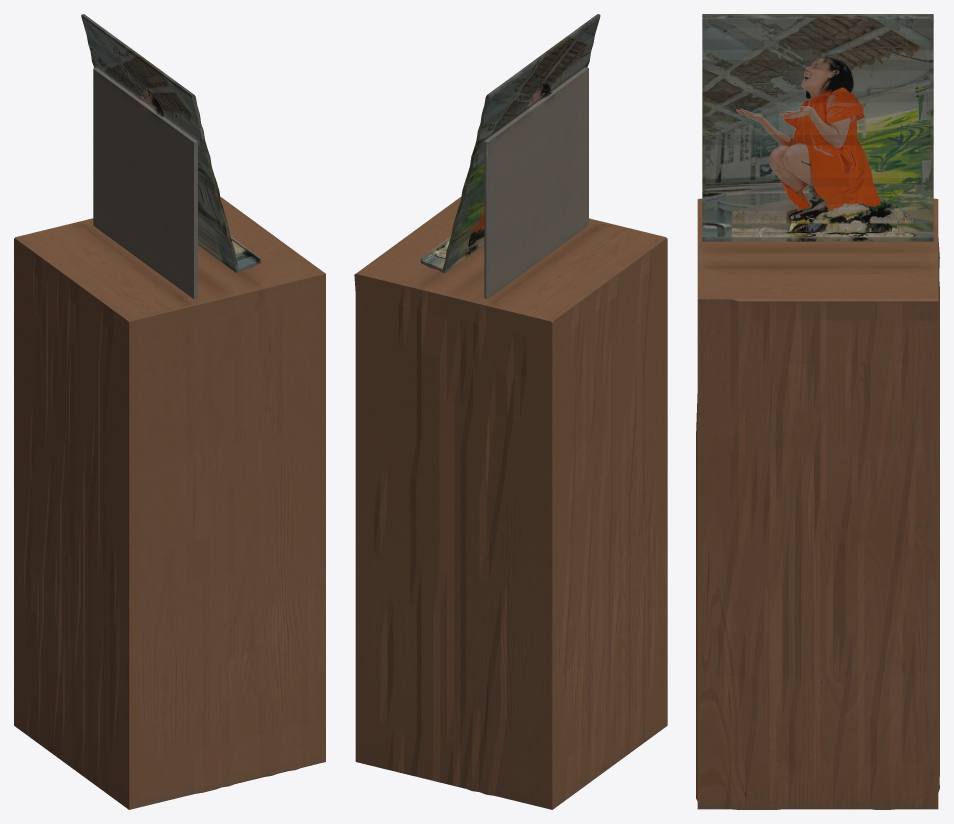
Rendered from album2.glb.
3 views of the same model, side by side, from view 1: azimuth 30°, elevation 25°; view 2: azimuth 150°, elevation 25°; view 3: azimuth 270°, elevation 25° (orthographic). The views are drawn at different scales.
Parts seen in each view (by area): view 1: tripo_node_2e47b159-6941-472b-86d8-65cc977af622; view 2: tripo_node_2e47b159-6941-472b-86d8-65cc977af622; view 3: tripo_node_2e47b159-6941-472b-86d8-65cc977af622.
Part boxes in pixels (x1,y1,x2,y2): tripo_node_2e47b159-6941-472b-86d8-65cc977af622: [14, 14, 325, 809]; tripo_node_2e47b159-6941-472b-86d8-65cc977af622: [354, 14, 667, 809]; tripo_node_2e47b159-6941-472b-86d8-65cc977af622: [696, 14, 939, 809].
Size of the model in its own units: 0.2995 by 1 by 0.3034.
1 material, 1 textured.
